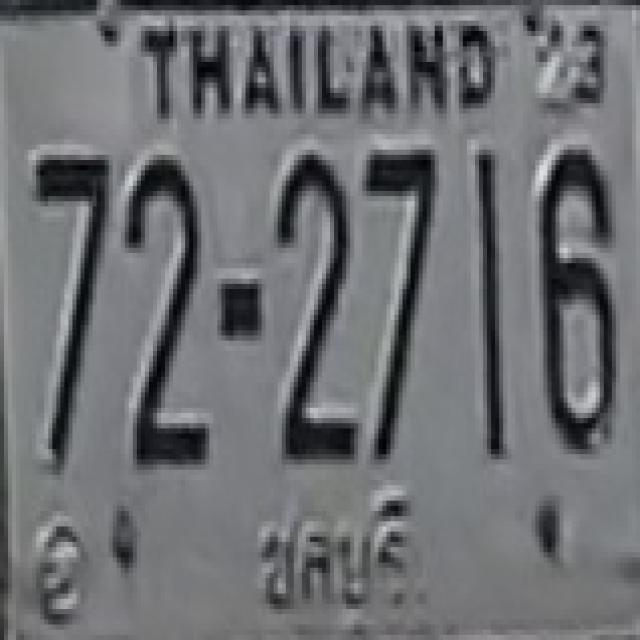2: (131, 222, 207, 464)
6: (535, 145, 612, 449)
7: (32, 152, 109, 390), (362, 144, 435, 330)
CBI: (244, 486, 412, 635)
